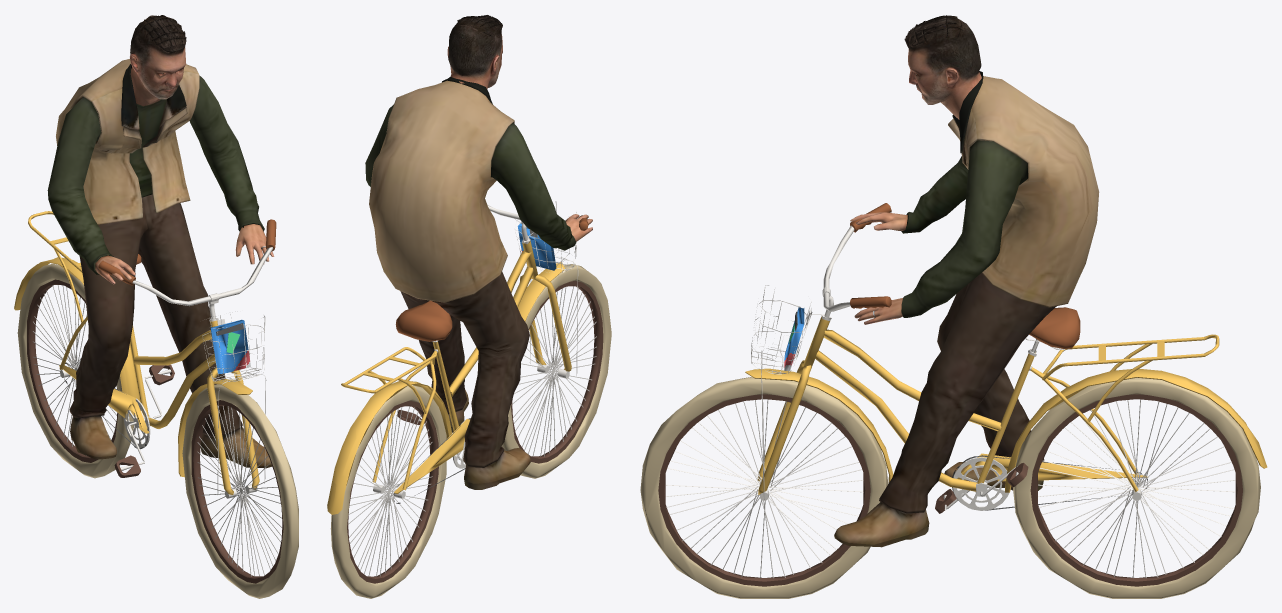
File: bicycle_rider.glb
3 renders of one model, left to right at view 1: azimuth 30°, elevation 25°; view 2: azimuth 150°, elevation 25°; view 3: azimuth 270°, elevation 25°, orthographic. The views are drawn at different scales.
Visible parts, largest first — view 1: rider, trim, paint, rider_hair; view 2: rider, trim, paint, rider_hair; view 3: rider, trim, paint, rider_hair.
Boxes of the visible parts, bbox=[...] form: rider: bbox=[47, 16, 274, 468]; trim: bbox=[17, 219, 298, 598]; paint: bbox=[14, 211, 259, 494]; rider_hair: bbox=[133, 15, 186, 54]; rider: bbox=[365, 19, 592, 489]; trim: bbox=[330, 201, 611, 598]; paint: bbox=[327, 240, 571, 514]; rider_hair: bbox=[451, 15, 502, 45]; rider: bbox=[834, 18, 1099, 547]; trim: bbox=[640, 203, 1260, 598]; paint: bbox=[745, 317, 1267, 494]; rider_hair: bbox=[904, 15, 963, 54].
Size of the model in its own units: 0.7039 by 1.78 by 1.75.
4 materials, 3 textured.
